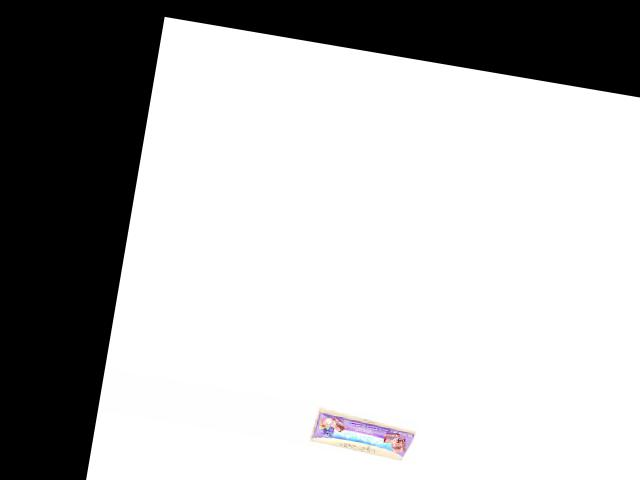chocolate: (309, 406, 422, 458)
